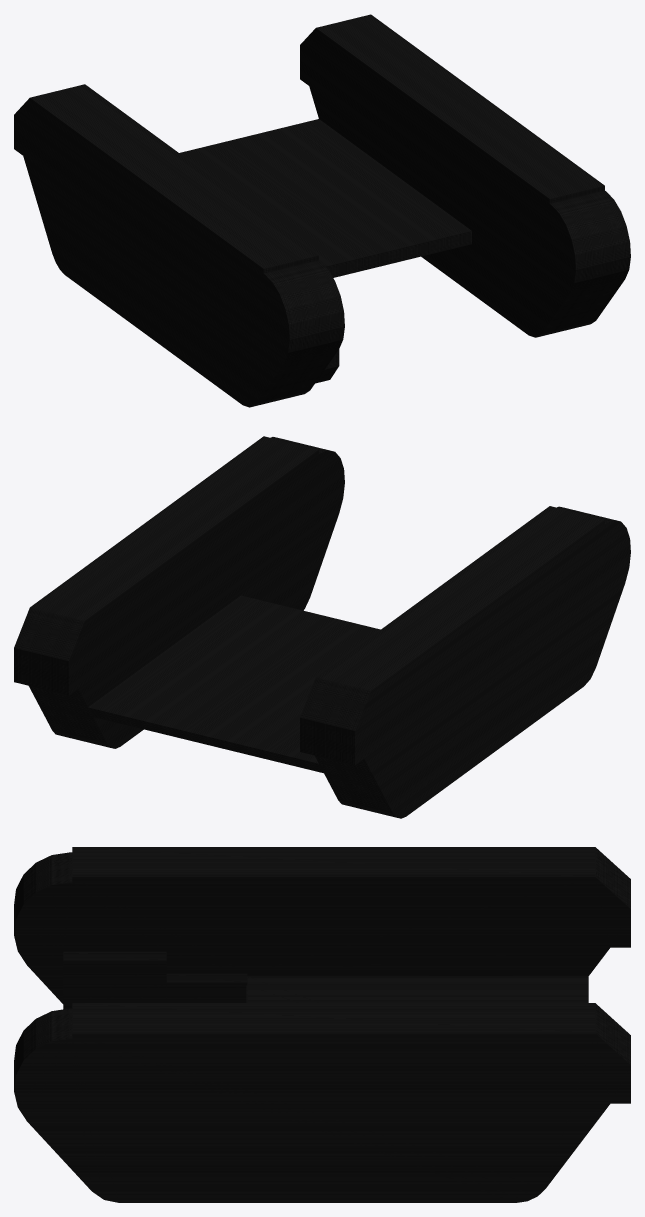
The model's file is DiggerBotOnePart.dae.
3 renders of one model, top to bottom at view 1: azimuth 30°, elevation 25°; view 2: azimuth 150°, elevation 25°; view 3: azimuth 270°, elevation 25°, orthographic. The views are drawn at different scales.
Parts seen in each view (by area): view 1: node; view 2: node; view 3: node.
Part boxes in pixels (<box>): node: <box>14,14,630,407</box>; node: <box>14,436,630,818</box>; node: <box>14,847,630,1202</box>.
Size of the model in its own units: 1.36 by 0.58 by 1.91.
Materials: 1 (1 with a texture image).
